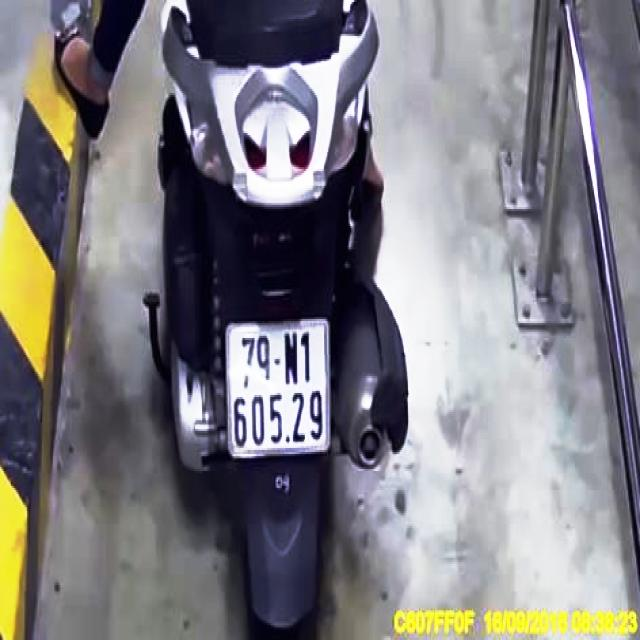license_plate: (230, 322, 329, 456)
